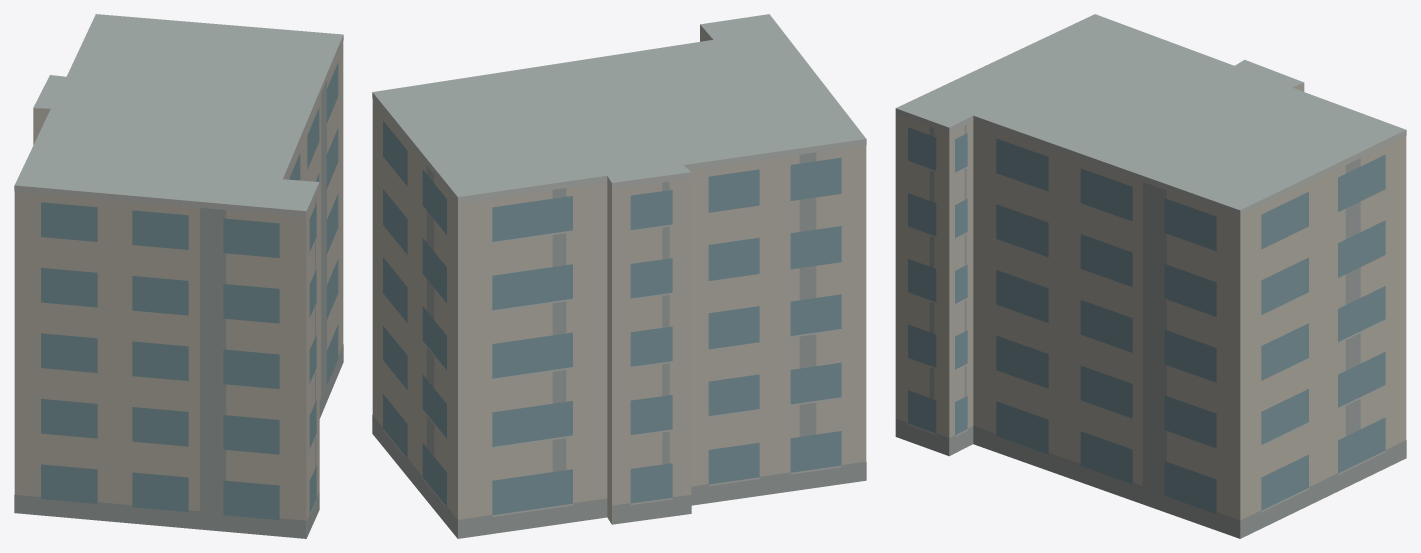
The model's file is survey-upis-32984676.glb.
The picture shows the model from 3 angles, left to right: view 1: azimuth 30°, elevation 25°; view 2: azimuth 150°, elevation 25°; view 3: azimuth 270°, elevation 25°; orthographic projection. The views are drawn at different scales.
Visible parts, largest first — view 1: survey-upis-32984676.tmp; view 2: survey-upis-32984676.tmp; view 3: survey-upis-32984676.tmp.
Part boxes in pixels (x1,y1,x2,y2): survey-upis-32984676.tmp: (14,14,343,538); survey-upis-32984676.tmp: (372,14,866,538); survey-upis-32984676.tmp: (895,14,1406,538).
Bounding box in the file's own units: 17.06 × 13.3 × 18.75.
